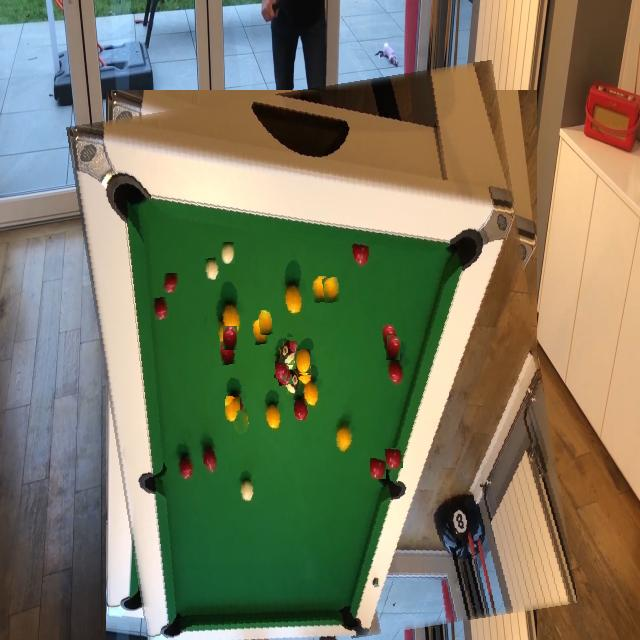Ball: (230, 410, 249, 440), (295, 420, 312, 449), (323, 277, 341, 304), (286, 312, 302, 337), (276, 354, 292, 379), (281, 341, 297, 365), (225, 396, 240, 421), (258, 310, 273, 335), (386, 335, 401, 360), (299, 326, 314, 350), (223, 326, 237, 351), (189, 277, 203, 302), (296, 349, 310, 373), (370, 458, 386, 479), (164, 274, 178, 296), (221, 242, 235, 264)
Billiard table: (86, 75, 556, 640)
